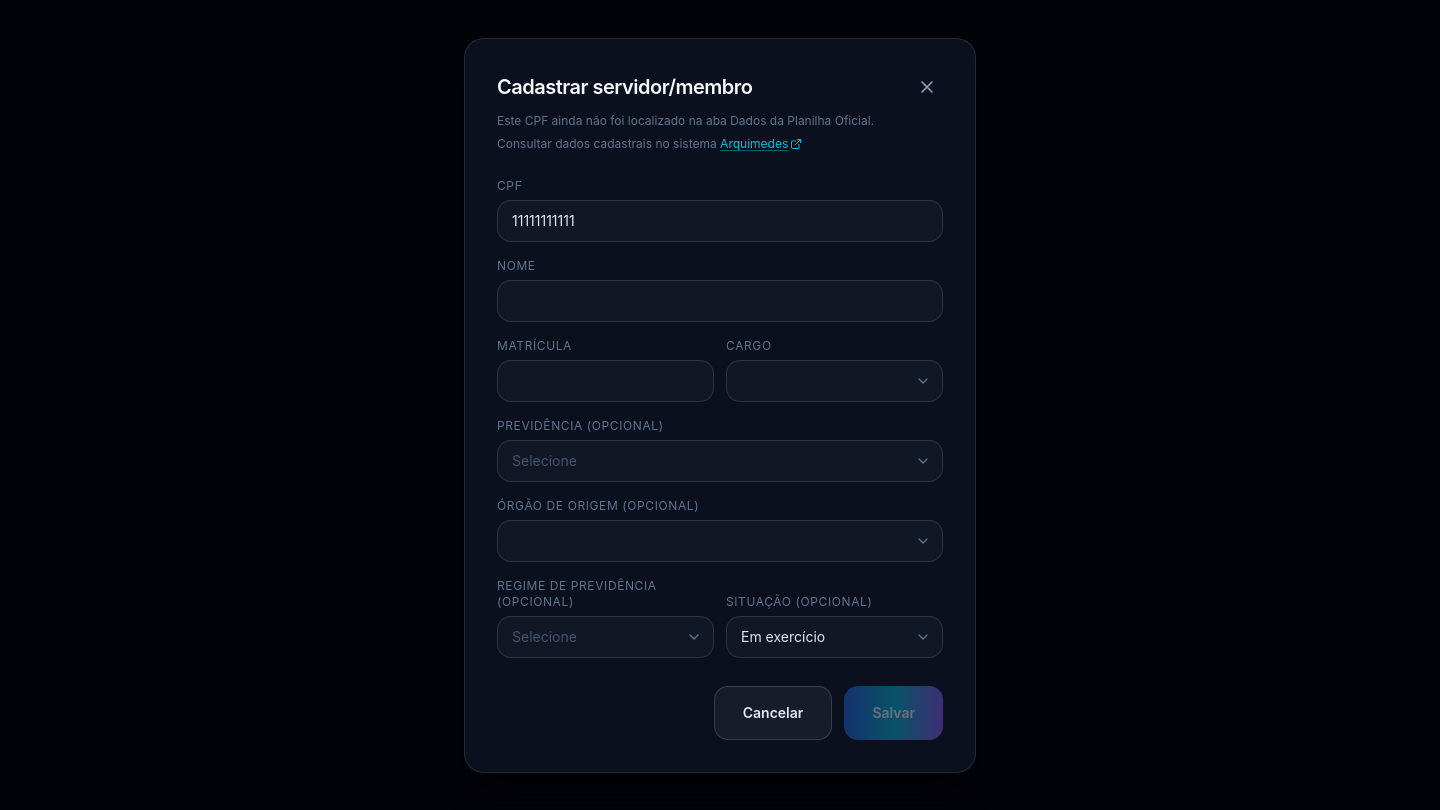
Scenario: ModalCadastrarServidor › CPF editável (item 2/6 do pedido "Ajuste Funcional + UX") › CPF corrigido para um valor já cadastrado: bloqueia como duplicidade (nunca cria um segundo registro)
Type "Novo Servidor de Teste" into the field labelled "Nome".
click(720, 300); type("Novo Servidor de Teste")  # box [497,280,943,322]
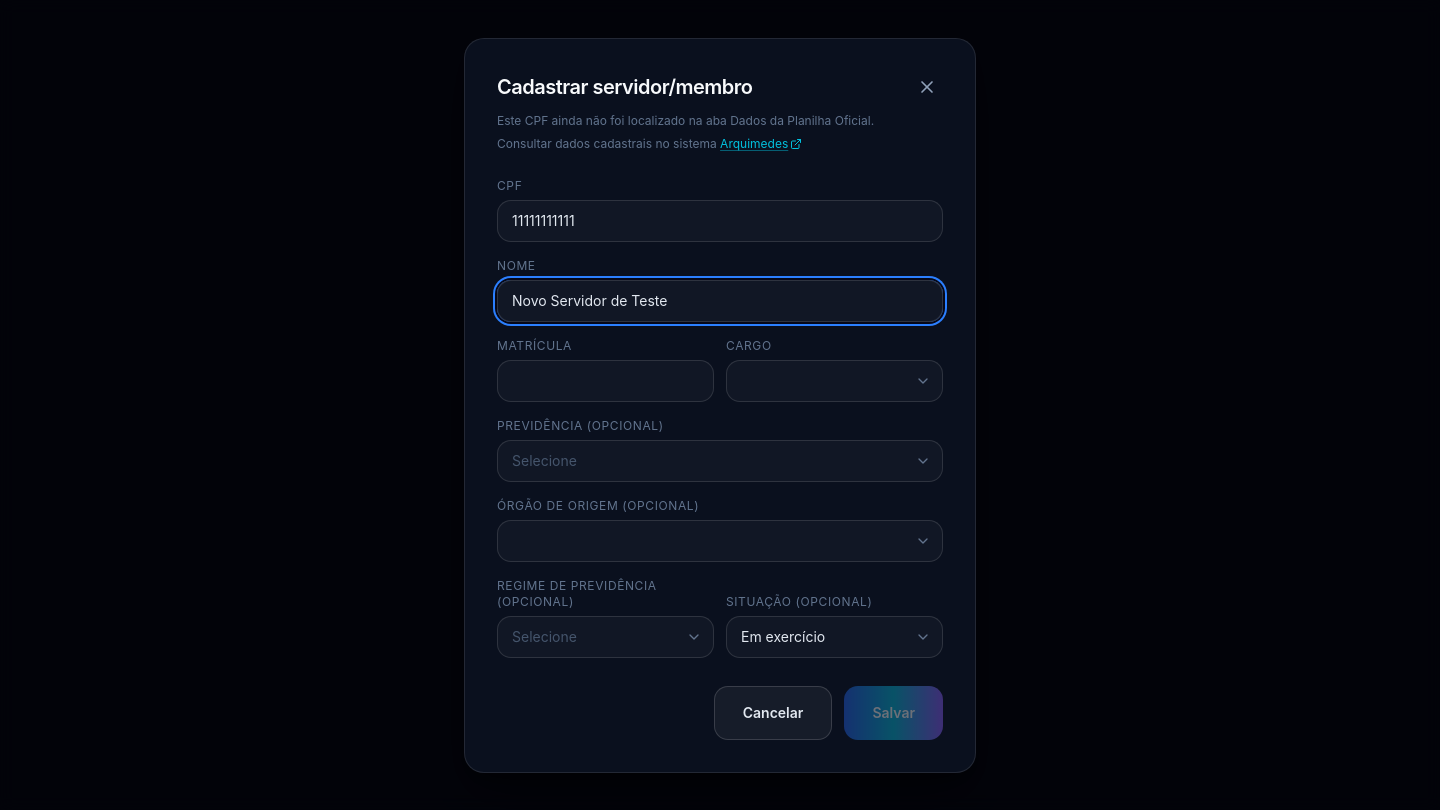
Type "9999" into the field labelled "Matrícula".
click(606, 380); type("9999")  # box [497,360,714,402]
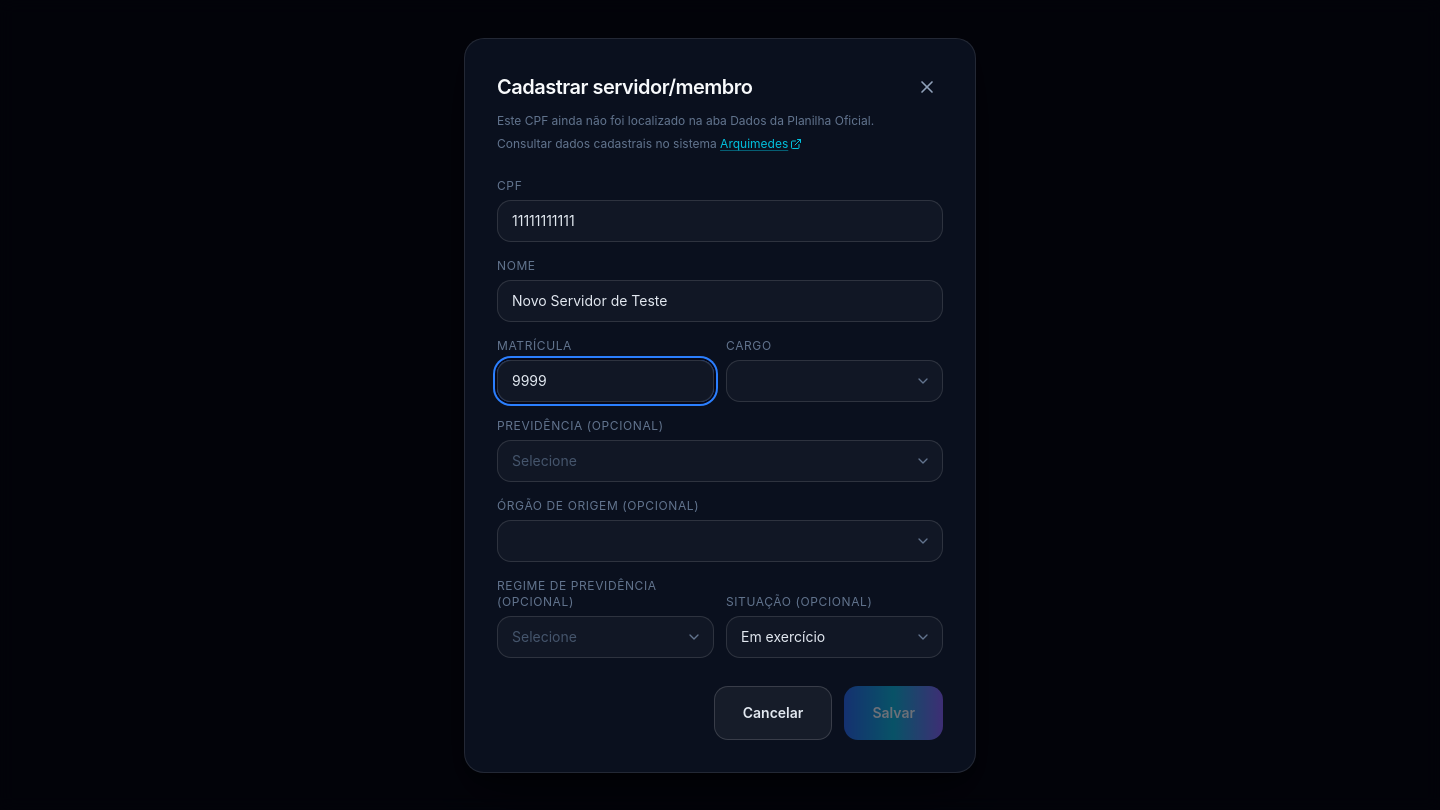
Type "Analista Judiciário" into the dropdown labelled "Cargo".
click(834, 380); type("Analista Judiciário")  # box [726,360,943,402]
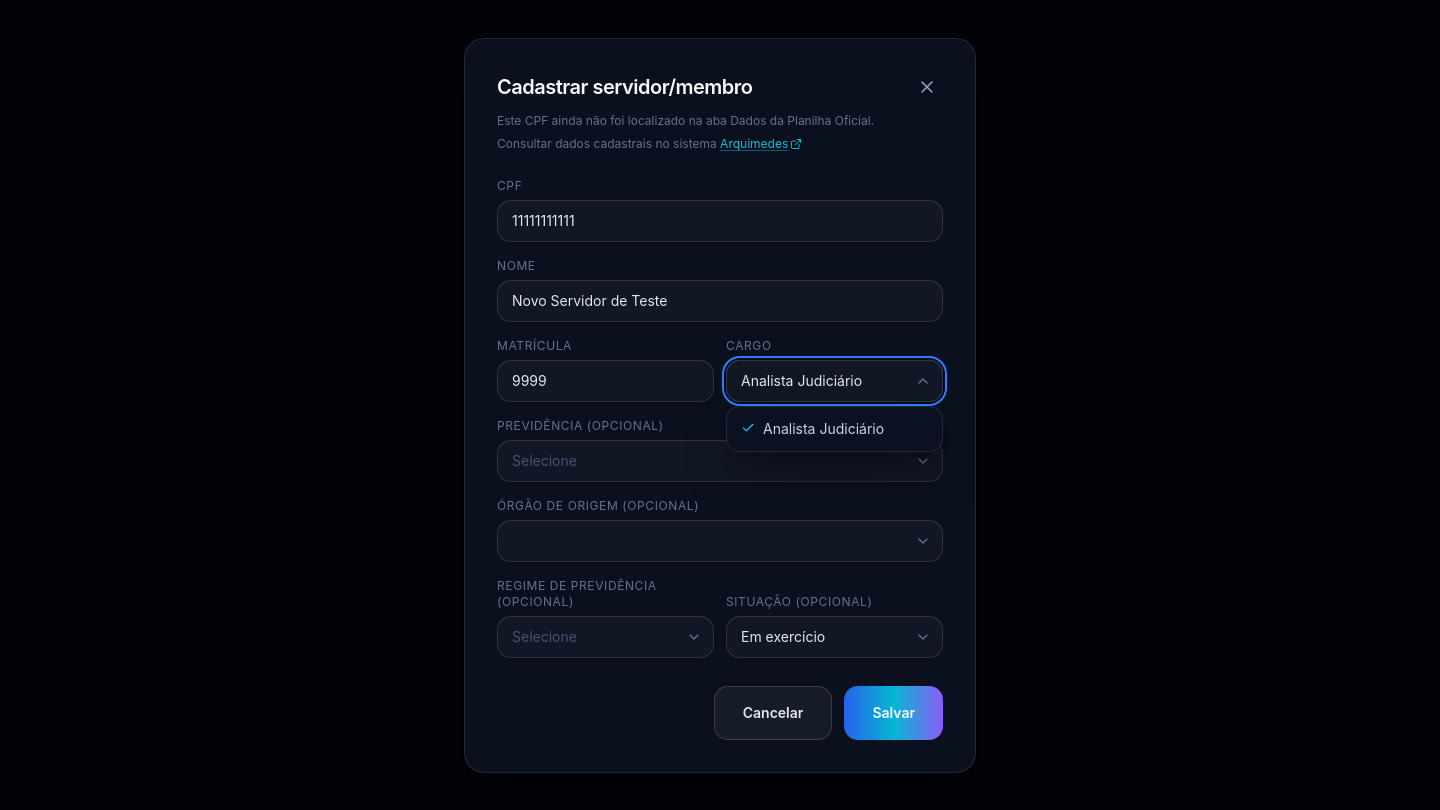
Replace the text in the field labelled "CPF" with "99999999999" at (720, 220), box [497,200,943,242]
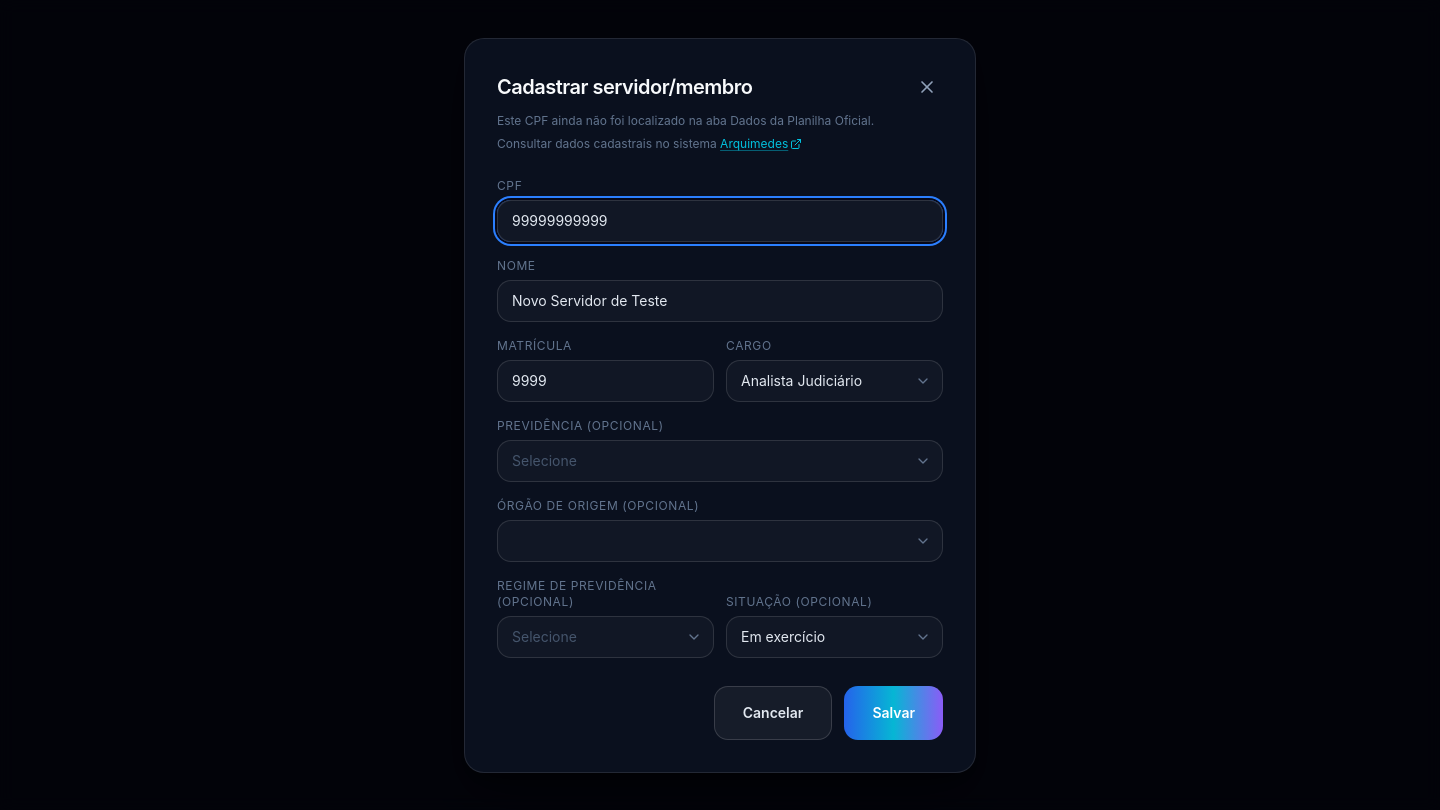
Click the button "Salvar".
click(894, 712)  # box [844,686,943,740]
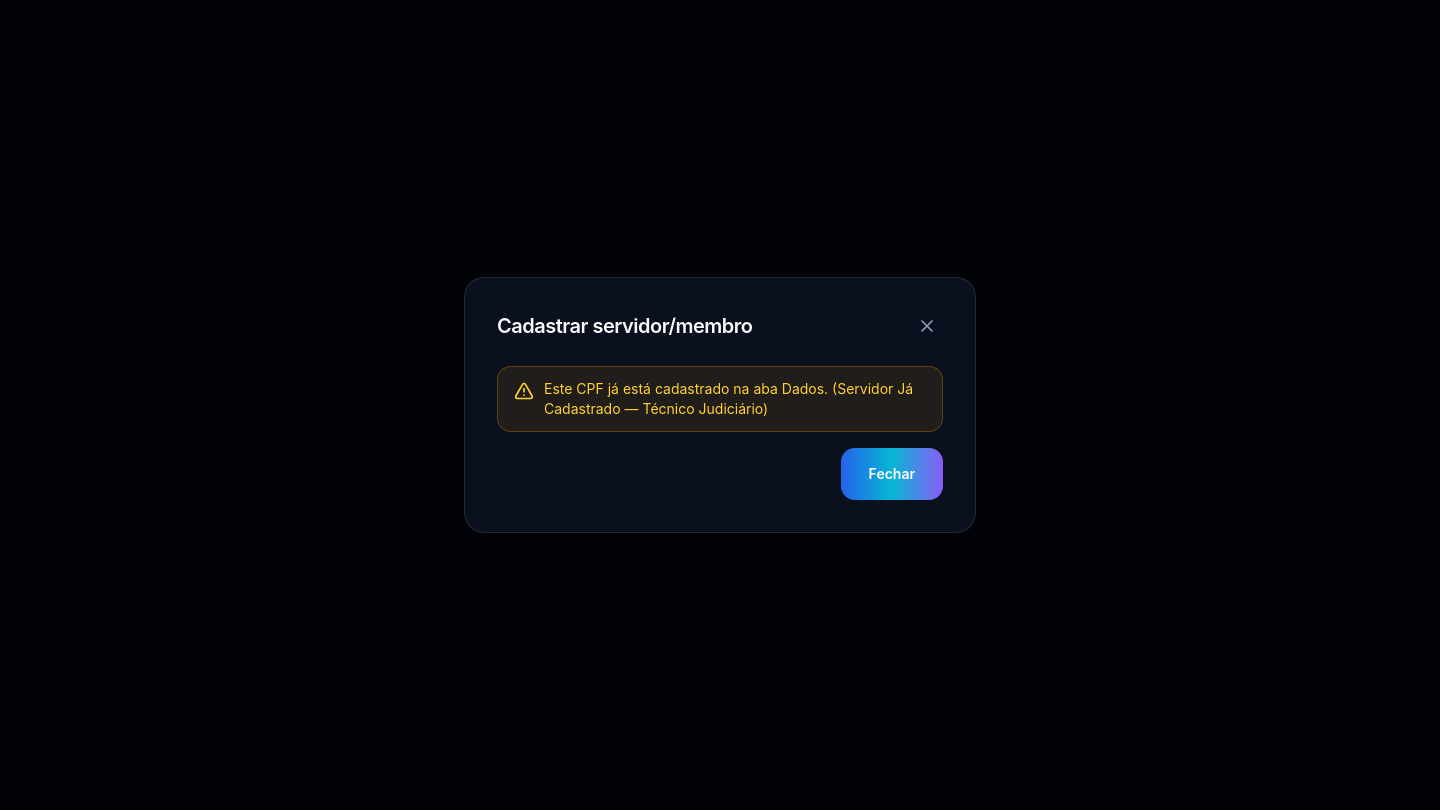
Check: the text "já está cadastrado" is shown, box [544,380,828,397]
Check: the text "Servidor Já Cadastrado" is shown, box [544,380,913,417]
